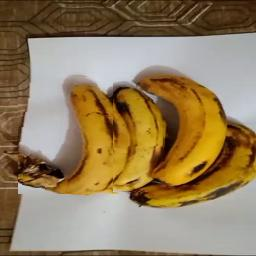Banana Semifresh: (18, 75, 127, 195), (113, 78, 165, 192)
